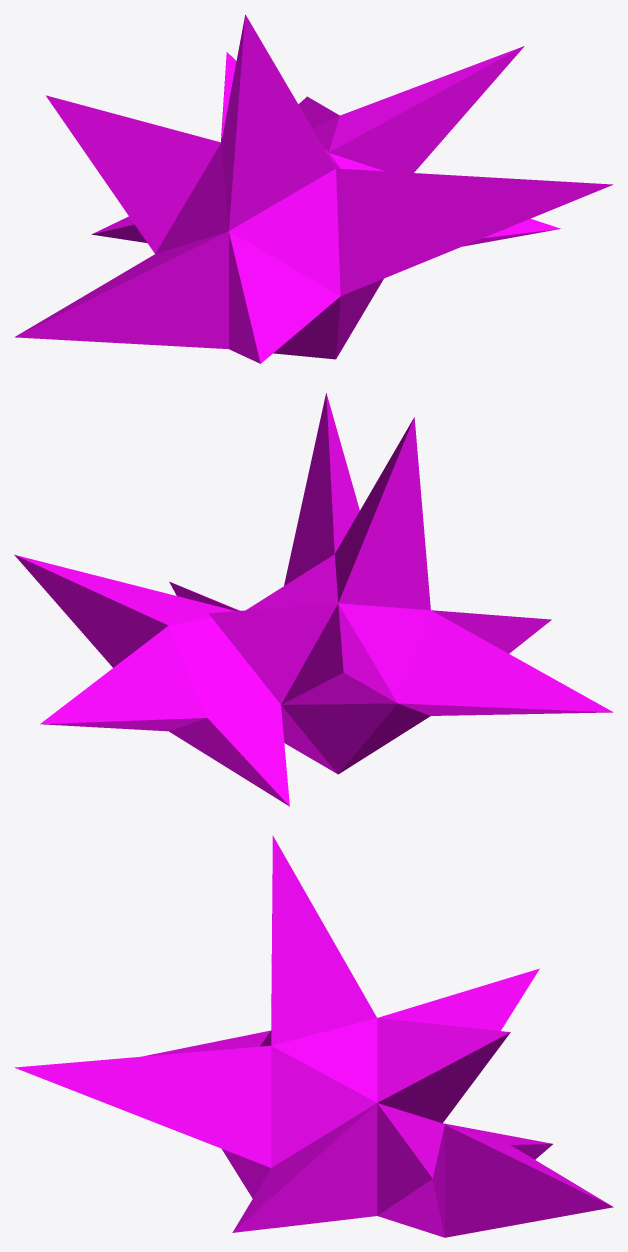
Rendered from crystal bush.fbx.
3 renders of one model, top to bottom at view 1: azimuth 30°, elevation 25°; view 2: azimuth 150°, elevation 25°; view 3: azimuth 270°, elevation 25°, orthographic. The views are drawn at different scales.
Visible parts, largest first — view 1: crystal_bush1; view 2: crystal_bush1; view 3: crystal_bush1.
Part boxes in pixels (x1=…): crystal_bush1: x1=14, y1=14, x2=612, y2=363; crystal_bush1: x1=14, y1=393, x2=612, y2=806; crystal_bush1: x1=15, y1=835, x2=613, y2=1237.
Bounding box in the file's own units: 5.5 × 3.27 × 5.06.
